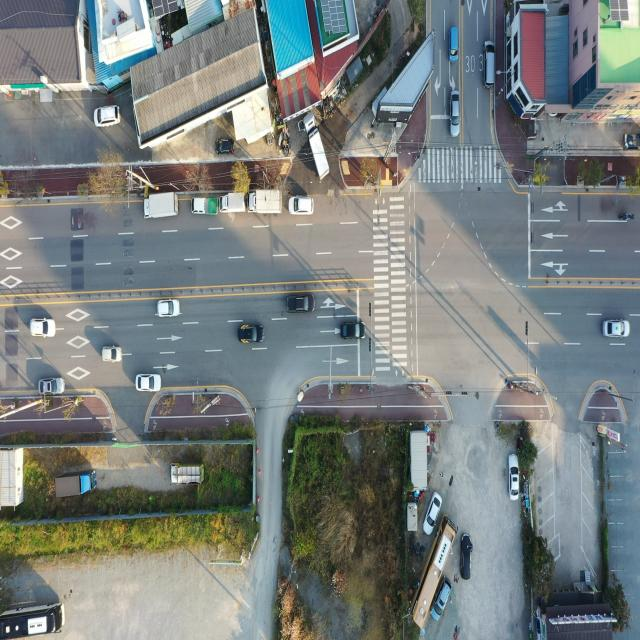car: (431, 577, 453, 628), (422, 492, 442, 536), (458, 532, 472, 583), (94, 105, 122, 127), (238, 323, 264, 345), (484, 40, 496, 86), (449, 87, 460, 134), (605, 319, 630, 339), (31, 318, 56, 338), (290, 197, 316, 216), (137, 374, 161, 394), (510, 456, 520, 502), (158, 300, 182, 319), (290, 294, 314, 313), (39, 377, 64, 395), (342, 321, 364, 340), (449, 21, 459, 62), (214, 136, 234, 155), (102, 346, 122, 364)
large_bus: (410, 517, 458, 630), (0, 599, 64, 640)
medium_truck: (304, 114, 333, 182), (54, 469, 96, 504), (144, 191, 180, 220), (248, 190, 282, 213)
small_truck: (171, 462, 206, 488), (219, 192, 246, 214), (191, 197, 217, 214)
